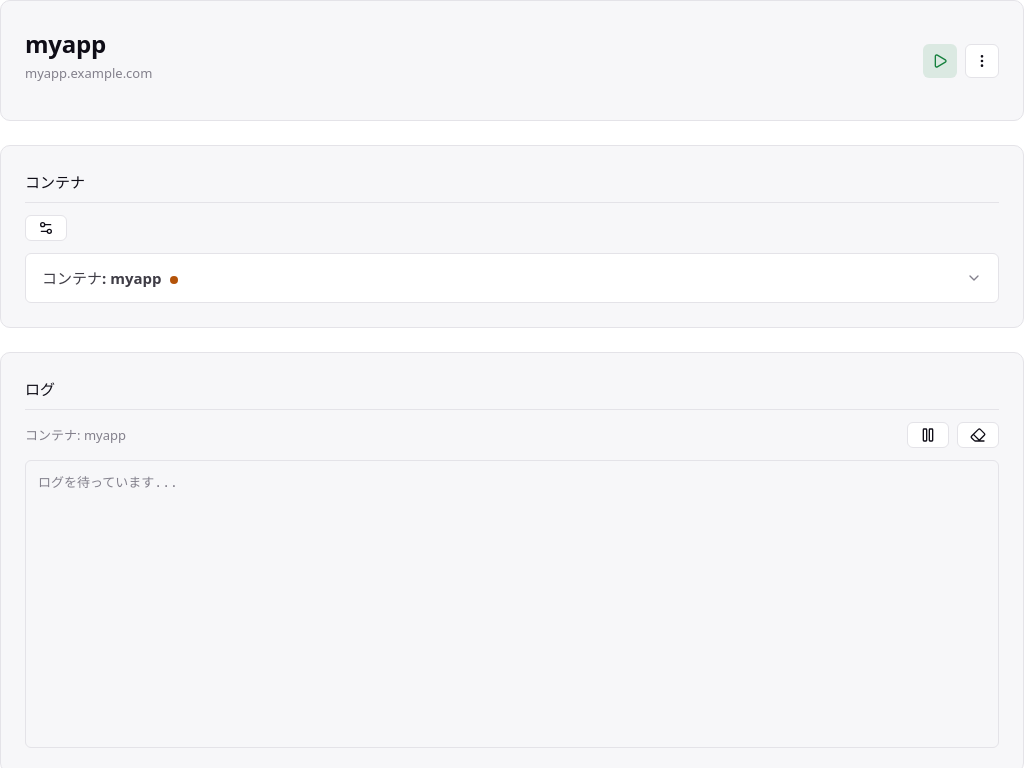
ServiceDetailPage › 削除ボタンは即削除せず確認モーダルを挟む
Click the button named "その他の操作": click(982, 61) [965,44,999,78]
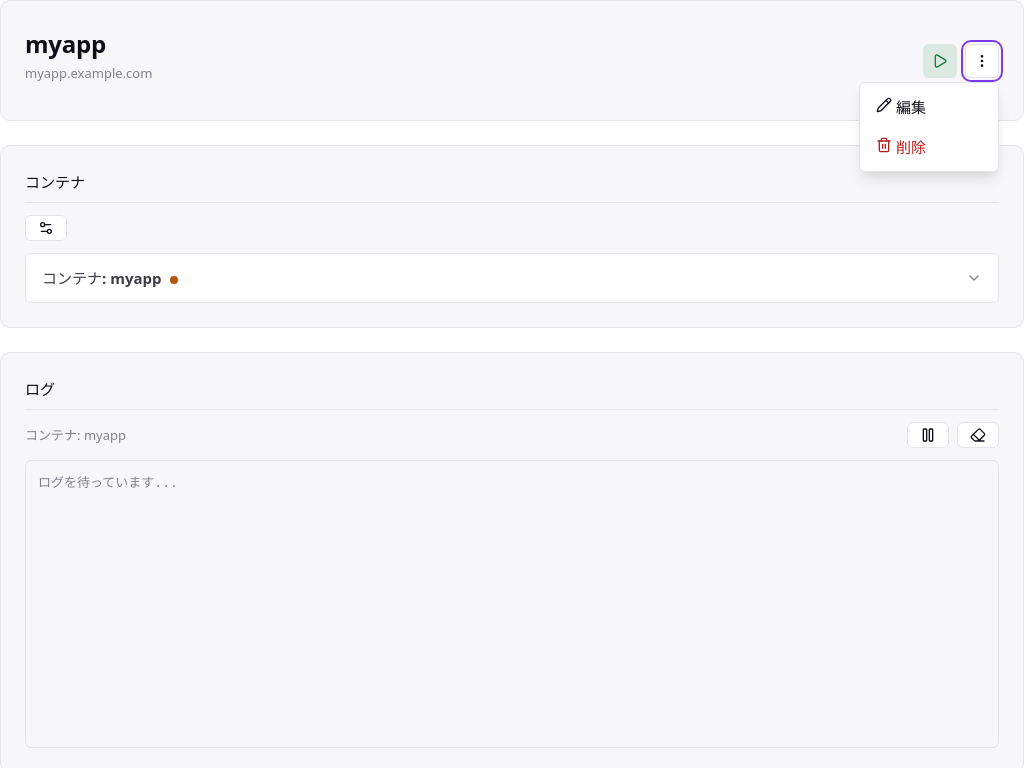
Click the button "削除": click(929, 147) [864,127,994,167]
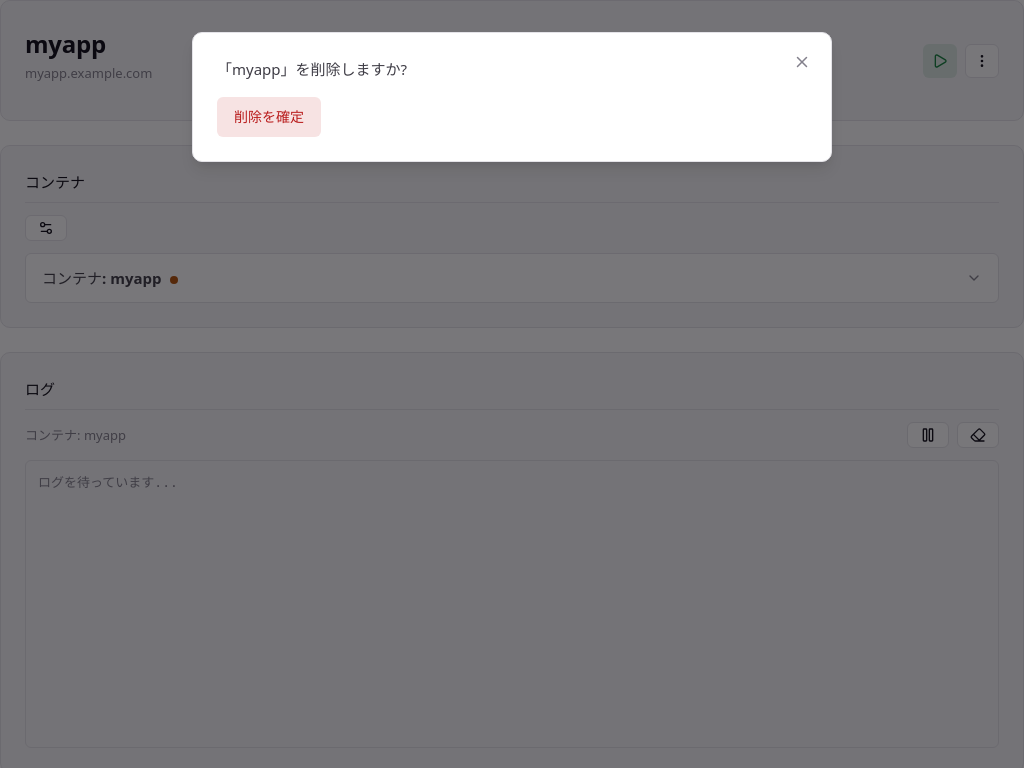
Result: the dialog is shown at [192,32,832,162]
Result: the text "「myapp」を削除しますか?" is shown at [217,59,407,79]
